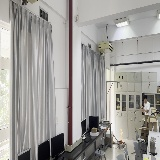fire: (118, 129, 124, 143)
